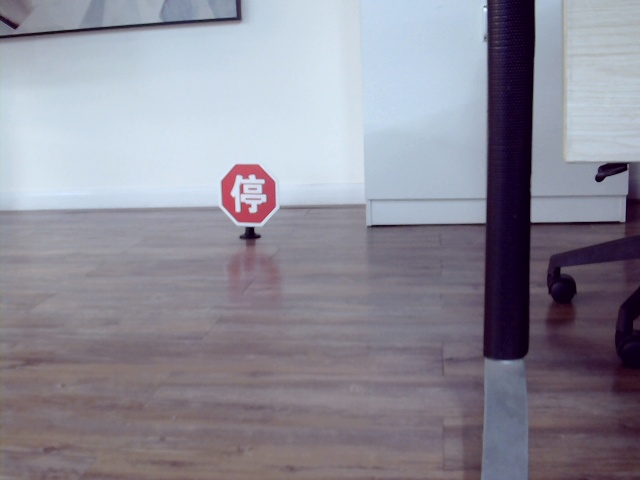stop: (228, 168, 266, 214)
